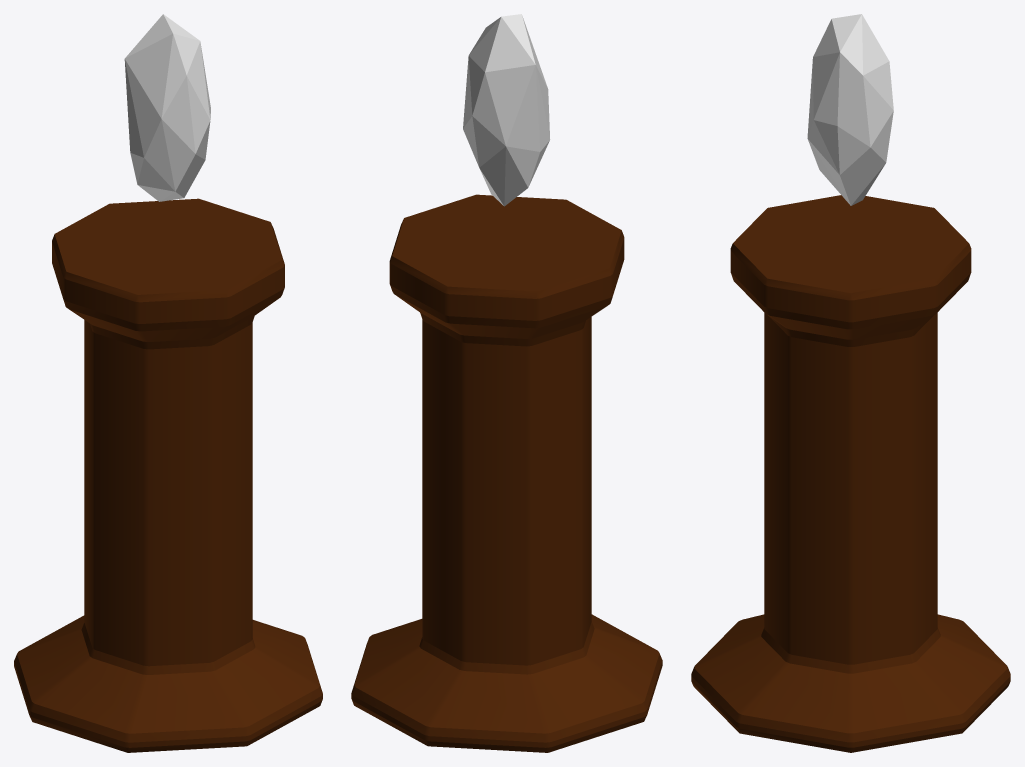
The model's file is Crystal.fbx.
The picture shows the model from 3 angles, left to right: view 1: azimuth 30°, elevation 25°; view 2: azimuth 150°, elevation 25°; view 3: azimuth 270°, elevation 25°; orthographic projection.
Visible parts, largest first — view 1: Podium, Crystal; view 2: Podium, Crystal; view 3: Podium, Crystal.
Boxes of the visible parts, left/top/right/bottom form: Podium: left=14, top=198, right=322, bottom=752; Crystal: left=124, top=14, right=210, bottom=201; Podium: left=351, top=194, right=662, bottom=752; Crystal: left=463, top=14, right=550, bottom=206; Podium: left=691, top=195, right=1010, bottom=752; Crystal: left=807, top=14, right=893, bottom=205.
Bounding box in the file's own units: 364 × 846 × 364.
